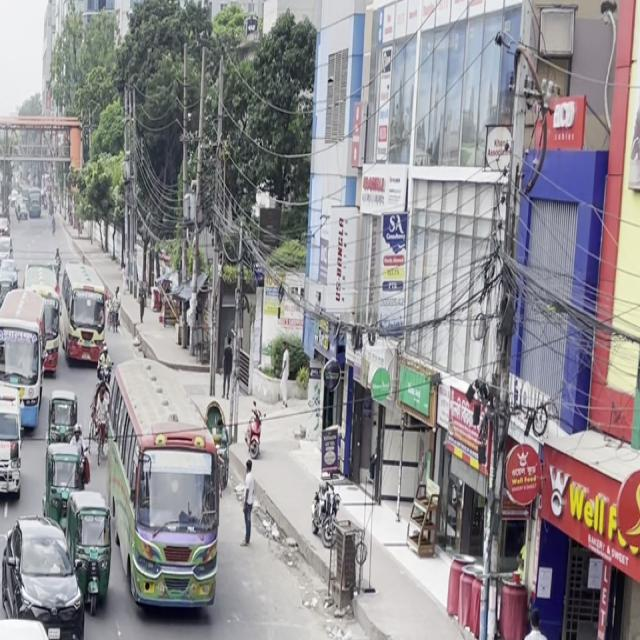bus: (125, 366, 229, 640), (63, 252, 115, 360), (0, 282, 50, 394)
car: (0, 514, 90, 640), (0, 608, 91, 640), (0, 395, 25, 508), (308, 624, 475, 640), (46, 386, 83, 452)
motorbike: (73, 427, 93, 489)
rickshaw: (51, 482, 117, 610)
